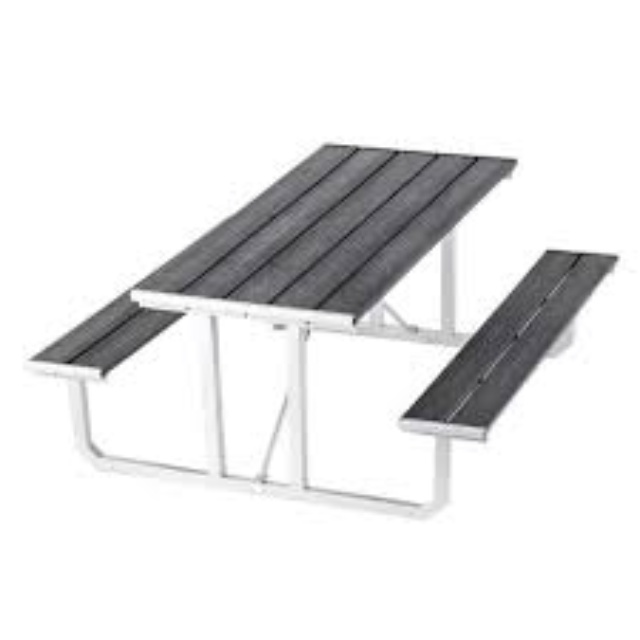obstacle: (31, 122, 623, 600)
